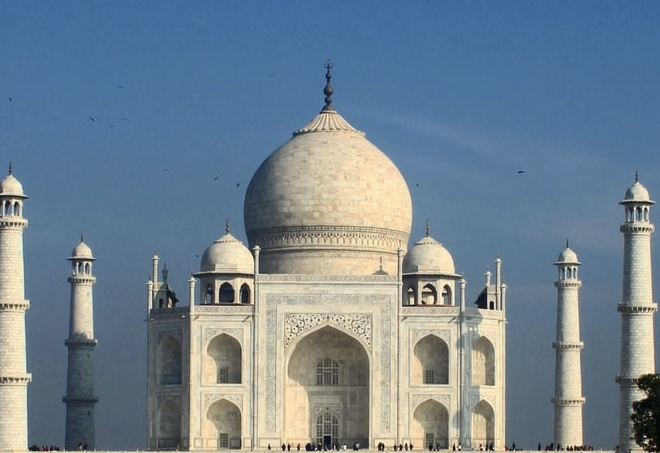Mosque: (7, 63, 655, 441)
